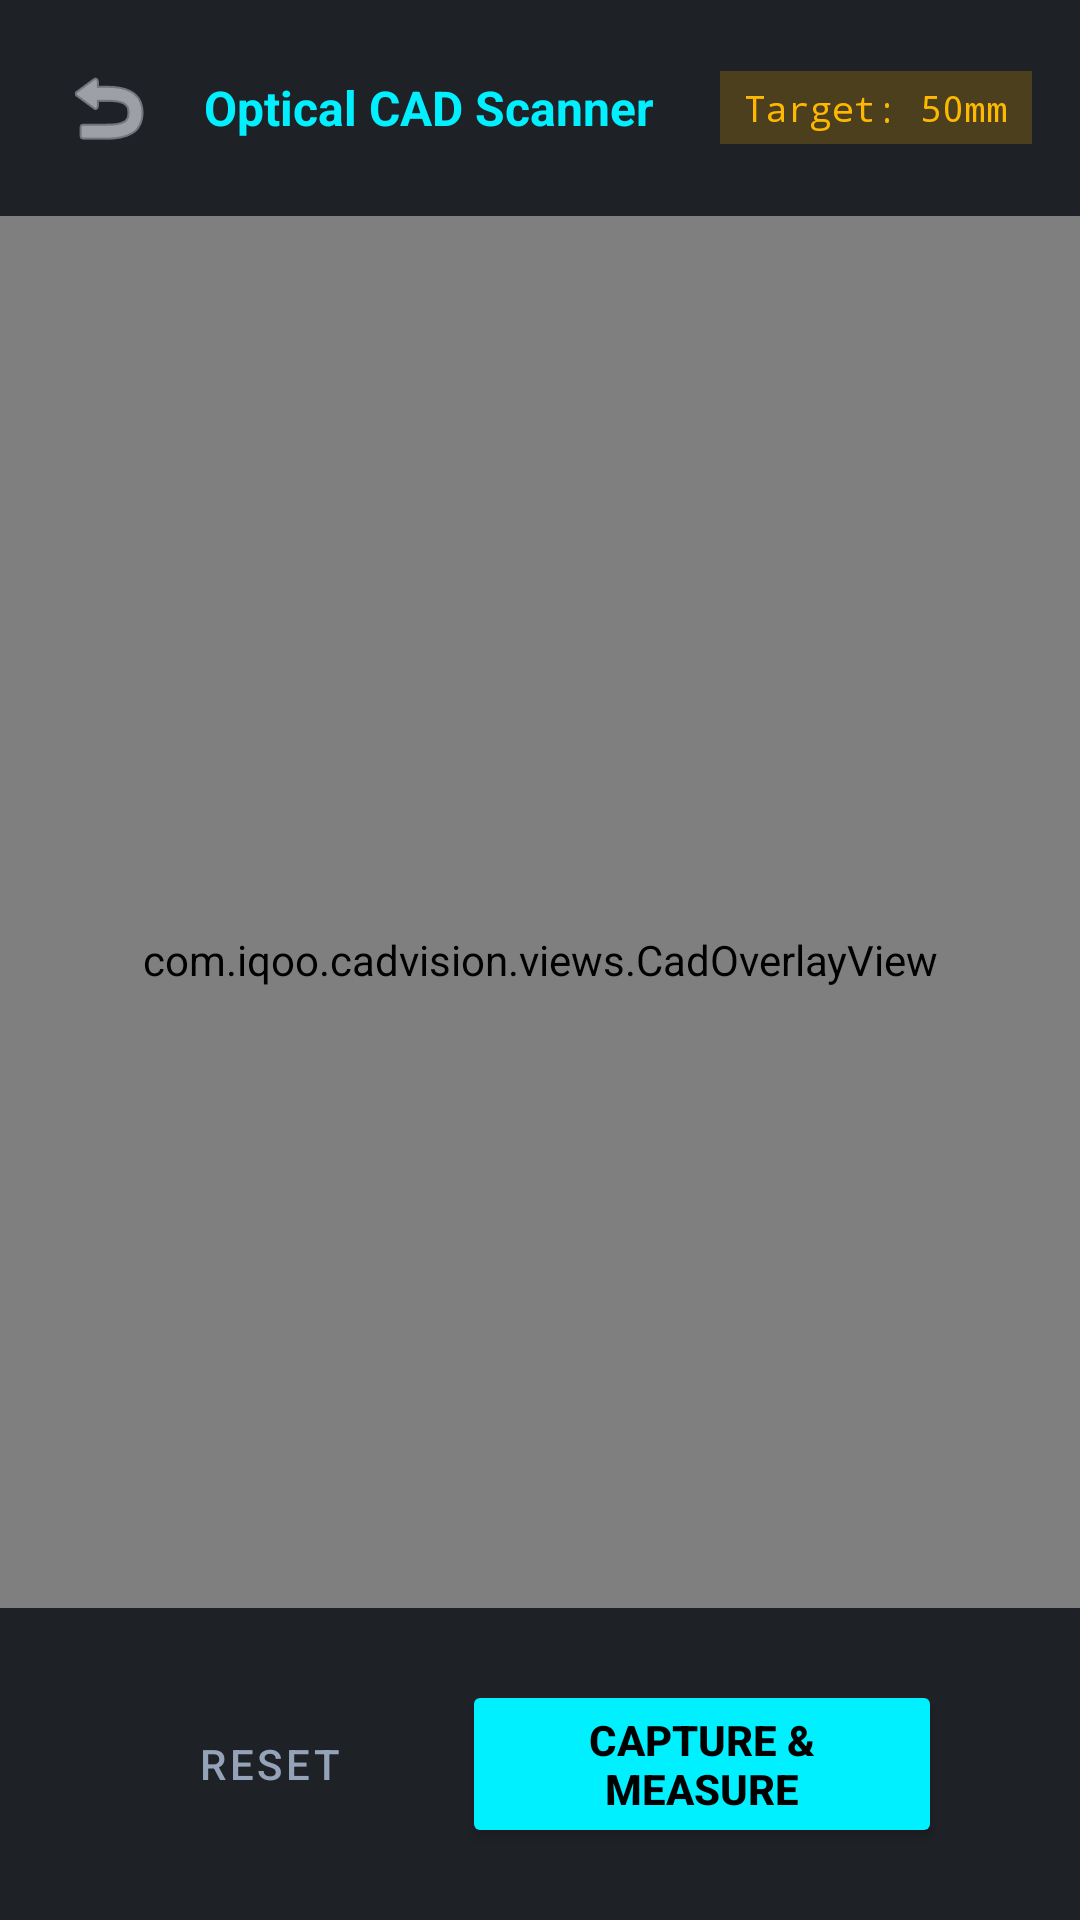

Icon click points for this 1080*1920 phone screenshot, format (x=x, y=y):
revert: (x=109, y=108)
